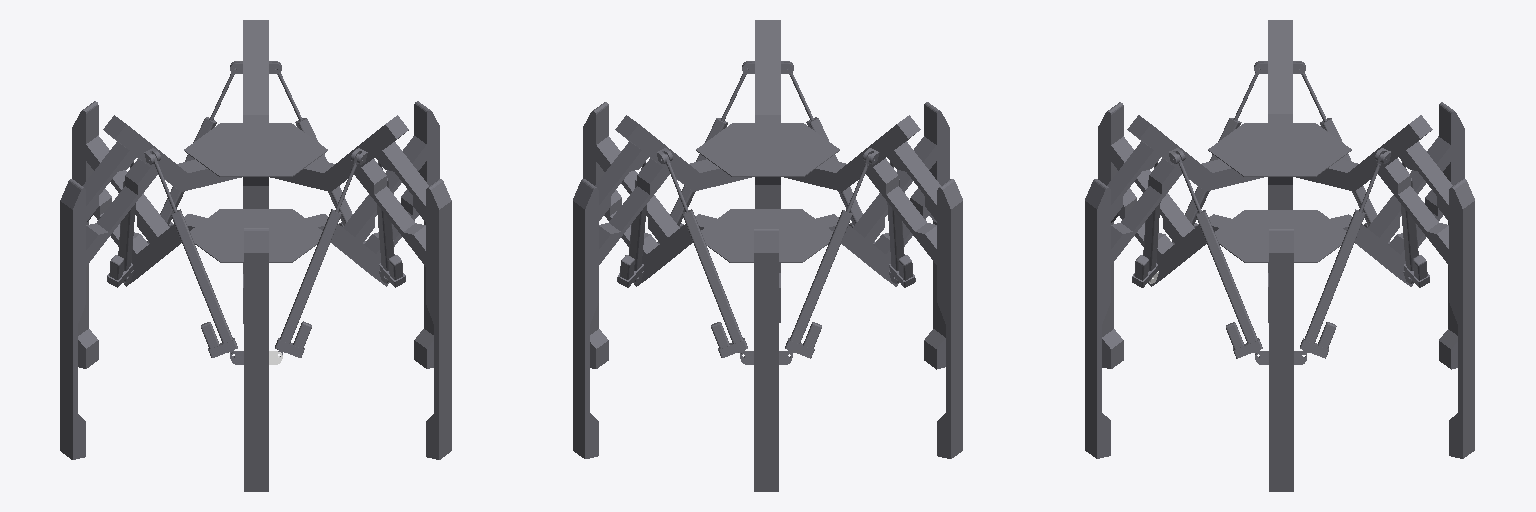
--- What the picture shows (computed from the rendered views, not written in the file) ---
3 views of the same robot in one strip: view 1: azimuth 30°, elevation 25°; view 2: azimuth 150°, elevation 25°; view 3: azimuth 270°, elevation 25° (orthographic).
Robot: Stewart — 26 links, 25 joints (12 revolute, 7 continuous, 6 prismatic); root link Lower; default pose: all joints at 0.
Links seen in each view (by area): view 1: Upper, Lower, V6, V5, V4, V1, V2, V3; view 2: Upper, Lower, V3, V4, V5, V2, V1, V6; view 3: Upper, Lower, V1, V2, V6, V3, V4, V5.
Boxes of the visible links, x1,y1,x2,y2 form: Upper: [60, 20, 451, 459]; Lower: [72, 101, 439, 491]; V6: [275, 209, 341, 357]; V5: [171, 209, 237, 357]; V4: [107, 179, 135, 287]; V1: [377, 178, 405, 287]; V2: [295, 118, 365, 243]; V3: [147, 117, 216, 243]; Upper: [573, 20, 962, 458]; Lower: [583, 102, 949, 491]; V3: [682, 209, 747, 357]; V4: [785, 210, 852, 358]; V5: [887, 179, 915, 287]; V2: [617, 178, 646, 287]; V1: [657, 118, 727, 244]; V6: [806, 117, 875, 244]; Upper: [1085, 20, 1474, 458]; Lower: [1098, 102, 1464, 491]; V1: [1195, 210, 1262, 358]; V2: [1300, 209, 1365, 358]; V6: [1132, 179, 1160, 287]; V3: [1401, 178, 1429, 287]; V4: [1320, 118, 1389, 244]; V5: [1172, 118, 1241, 244].
Size in the robot's own frame: 1.36 by 1.25 by 1.14 metres.
26 mesh visuals loaded from 26 distinct referenced files (26 binary STL).

robot.urdf — Stewart:
<?xml version="1.0" encoding="utf-8"?>
<!-- This URDF was automatically created by SolidWorks to URDF Exporter! Originally created by Stephen Brawner ([email redacted]) 
     Commit Version: 1.6.0-4-g7f85cfe  Build Version: 1.6.7995.38578
     For more information, please see http://wiki.ros.org/sw_urdf_exporter -->
<robot
  name="Stewart">
  <link
    name="Lower">
    <inertial>
      <origin
        xyz="-0.010389 -0.15074 -0.22968"
        rpy="0 0 0" />
      <mass
        value="19.55" />
      <inertia
        ixx="2.9384"
        ixy="2.7079E-11"
        ixz="6.3929E-11"
        iyy="2.9384"
        iyz="9.1516E-11"
        izz="4.5968" />
    </inertial>
    <visual>
      <origin
        xyz="0 0 0"
        rpy="0 0 0" />
      <geometry>
        <mesh
          filename="package://Stewart/meshes/Lower.STL" />
      </geometry>
      <material
        name="">
        <color
          rgba="0.49412 0.49412 0.52549 1" />
      </material>
    </visual>
    <collision>
      <origin
        xyz="0 0 0"
        rpy="0 0 0" />
      <geometry>
        <mesh
          filename="package://Stewart/meshes/Lower.STL" />
      </geometry>
    </collision>
  </link>
  <link
    name="C1_1">
    <inertial>
      <origin
        xyz="0.13316 -0.072357 -0.012797"
        rpy="0 0 0" />
      <mass
        value="0.039475" />
      <inertia
        ixx="1.0228E-05"
        ixy="-2.0586E-07"
        ixz="-7.6717E-11"
        iyy="1.0698E-05"
        iyz="-1.6758E-10"
        izz="1.064E-05" />
    </inertial>
    <visual>
      <origin
        xyz="0 0 0"
        rpy="0 0 0" />
      <geometry>
        <mesh
          filename="package://Stewart/meshes/C1_1.STL" />
      </geometry>
      <material
        name="">
        <color
          rgba="0.49412 0.49412 0.52549 1" />
      </material>
    </visual>
    <collision>
      <origin
        xyz="0 0 0"
        rpy="0 0 0" />
      <geometry>
        <mesh
          filename="package://Stewart/meshes/C1_1.STL" />
      </geometry>
    </collision>
  </link>
  <joint
    name="J1_L"
    type="continuous">
    <origin
      xyz="0.40602 -0.075625 -0.31782"
      rpy="1.8677 0 -1.5708" />
    <parent
      link="Lower" />
    <child
      link="C1_1" />
    <axis
      xyz="-1 0 0" />
    <limit
      effort="1000"
      velocity="1000" />
  </joint>
  <link
    name="V1">
    <inertial>
      <origin
        xyz="0.16591 0.14292 0.011473"
        rpy="0 0 0" />
      <mass
        value="0.66993" />
      <inertia
        ixx="0.00041123"
        ixy="0.00096455"
        ixz="1.2062E-15"
        iyy="0.014836"
        iyz="8.0014E-17"
        izz="0.015086" />
    </inertial>
    <visual>
      <origin
        xyz="0 0 0"
        rpy="0 0 0" />
      <geometry>
        <mesh
          filename="package://Stewart/meshes/V1.STL" />
      </geometry>
      <material
        name="">
        <color
          rgba="0.49412 0.49412 0.52549 1" />
      </material>
    </visual>
    <collision>
      <origin
        xyz="0 0 0"
        rpy="0 0 0" />
      <geometry>
        <mesh
          filename="package://Stewart/meshes/V1.STL" />
      </geometry>
    </collision>
  </link>
  <joint
    name="J1_1"
    type="revolute">
    <origin
      xyz="0.038976 0.019698 -0.0013241"
      rpy="3.1416 0 1.1891" />
    <parent
      link="C1_1" />
    <child
      link="V1" />
    <axis
      xyz="0 0 -1" />
    <limit
      lower="-1.57"
      upper="1.57"
      effort="1000"
      velocity="1000" />
  </joint>
  <link
    name="P1">
    <inertial>
      <origin
        xyz="-0.09737 -0.097635 0.13488"
        rpy="0 0 0" />
      <mass
        value="0.054892" />
      <inertia
        ixx="1.0485E-06"
        ixy="-1.5892E-10"
        ixz="-2.5525E-09"
        iyy="0.0010739"
        iyz="-1.4724E-12"
        izz="0.0010739" />
    </inertial>
    <visual>
      <origin
        xyz="0 0 0"
        rpy="0 0 0" />
      <geometry>
        <mesh
          filename="package://Stewart/meshes/P1.STL" />
      </geometry>
      <material
        name="">
        <color
          rgba="0.49412 0.49412 0.52549 1" />
      </material>
    </visual>
    <collision>
      <origin
        xyz="0 0 0"
        rpy="0 0 0" />
      <geometry>
        <mesh
          filename="package://Stewart/meshes/P1.STL" />
      </geometry>
    </collision>
  </link>
  <joint
    name="Cy1"
    type="prismatic">
    <origin
      xyz="0.5203 -0.011845 0.094844"
      rpy="-2.7218 0 0" />
    <parent
      link="V1" />
    <child
      link="P1" />
    <axis
      xyz="1 0 0" />
    <limit
      lower="-0.25"
      upper="0.25"
      effort="1000"
      velocity="1000" />
  </joint>
  <link
    name="C2_1">
    <inertial>
      <origin
        xyz="-0.09765 0.16784 -0.084374"
        rpy="0 0 0" />
      <mass
        value="0.034924" />
      <inertia
        ixx="8.0687E-06"
        ixy="7.7883E-19"
        ixz="-5.7773E-21"
        iyy="9.4811E-06"
        iyz="-1.7152E-20"
        izz="8.4038E-06" />
    </inertial>
    <visual>
      <origin
        xyz="0 0 0"
        rpy="0 0 0" />
      <geometry>
        <mesh
          filename="package://Stewart/meshes/C2_1.STL" />
      </geometry>
      <material
        name="">
        <color
          rgba="0.49412 0.49412 0.52549 1" />
      </material>
    </visual>
    <collision>
      <origin
        xyz="0 0 0"
        rpy="0 0 0" />
      <geometry>
        <mesh
          filename="package://Stewart/meshes/C2_1.STL" />
      </geometry>
    </collision>
  </link>
  <joint
    name="J2_1"
    type="revolute">
    <origin
      xyz="0.24741 -0.013261 -0.01842"
      rpy="1.5708 1.1358 3.1416" />
    <parent
      link="P1" />
    <child
      link="C2_1" />
    <axis
      xyz="0 0 -1" />
    <limit
      lower="-1.57"
      upper="1.57"
      effort="1000"
      velocity="1000" />
  </joint>
  <link
    name="Upper">
    <inertial>
      <origin
        xyz="-0.081611 -0.10844 -0.35699"
        rpy="0 0 0" />
      <mass
        value="21.508" />
      <inertia
        ixx="4.6524"
        ixy="-0.00019502"
        ixz="-0.00014635"
        iyy="4.6523"
        iyz="-0.00019478"
        izz="5.9442" />
    </inertial>
    <visual>
      <origin
        xyz="0 0 0"
        rpy="0 0 0" />
      <geometry>
        <mesh
          filename="package://Stewart/meshes/Upper.STL" />
      </geometry>
      <material
        name="">
        <color
          rgba="0.49412 0.49412 0.52549 1" />
      </material>
    </visual>
    <collision>
      <origin
        xyz="0 0 0"
        rpy="0 0 0" />
      <geometry>
        <mesh
          filename="package://Stewart/meshes/Upper.STL" />
      </geometry>
    </collision>
  </link>
  <joint
    name="J1_U"
    type="continuous">
    <origin
      xyz="-0.031108 0.15944 0.39527"
      rpy="1.3323 0.51126 -0.11838" />
    <parent
      link="C2_1" />
    <child
      link="Upper" />
    <axis
      xyz="-0.86603 -0.5 0" />
    <limit
      effort="1000"
      velocity="1000" />
  </joint>
  <link
    name="C1_2">
    <inertial>
      <origin
        xyz="-0.096319 -0.07985 0.0048174"
        rpy="0 0 0" />
      <mass
        value="0.039475" />
      <inertia
        ixx="1.0228E-05"
        ixy="-2.0589E-07"
        ixz="-7.0825E-11"
        iyy="1.0698E-05"
        iyz="-1.6668E-10"
        izz="1.064E-05" />
    </inertial>
    <visual>
      <origin
        xyz="0 0 0"
        rpy="0 0 0" />
      <geometry>
        <mesh
          filename="package://Stewart/meshes/C1_2.STL" />
      </geometry>
      <material
        name="">
        <color
          rgba="0.49412 0.49412 0.52549 1" />
      </material>
    </visual>
    <collision>
      <origin
        xyz="0 0 0"
        rpy="0 0 0" />
      <geometry>
        <mesh
          filename="package://Stewart/meshes/C1_2.STL" />
      </geometry>
    </collision>
  </link>
  <joint
    name="J2_L"
    type="continuous">
    <origin
      xyz="0.41146 0.0036222 -0.30832"
      rpy="1.2738 0 1.5708" />
    <parent
      link="Lower" />
    <child
      link="C1_2" />
    <axis
      xyz="1 0 0" />
    <limit
      effort="1000"
      velocity="1000" />
  </joint>
  <link
    name="V2">
    <inertial>
      <origin
        xyz="0.069169 -0.063387 0.0025012"
        rpy="0 0 0" />
      <mass
        value="0.66993" />
      <inertia
        ixx="0.00041123"
        ixy="0.00096455"
        ixz="1.9191E-16"
        iyy="0.014836"
        iyz="2.0275E-17"
        izz="0.015086" />
    </inertial>
    <visual>
      <origin
        xyz="0 0 0"
        rpy="0 0 0" />
      <geometry>
        <mesh
          filename="package://Stewart/meshes/V2.STL" />
      </geometry>
      <material
        name="">
        <color
          rgba="0.49412 0.49412 0.52549 1" />
      </material>
    </visual>
    <collision>
      <origin
        xyz="0 0 0"
        rpy="0 0 0" />
      <geometry>
        <mesh
          filename="package://Stewart/meshes/V2.STL" />
      </geometry>
    </collision>
  </link>
  <joint
    name="J1_2"
    type="revolute">
    <origin
      xyz="0.036023 0.026319 0.0073184"
      rpy="-3.1416 0 1.1991" />
    <parent
      link="C1_2" />
    <child
      link="V2" />
    <axis
      xyz="0 0 -1" />
    <limit
      lower="-1.57"
      upper="1.57"
      effort="1000"
      velocity="1000" />
  </joint>
  <link
    name="P2">
    <inertial>
      <origin
        xyz="-0.23137 0.068491 -0.081051"
        rpy="0 0 0" />
      <mass
        value="0.054892" />
      <inertia
        ixx="1.0485E-06"
        ixy="1.1273E-10"
        ixz="2.5778E-09"
        iyy="0.0010739"
        iyz="-1.1562E-12"
        izz="0.0010739" />
    </inertial>
    <visual>
      <origin
        xyz="0 0 0"
        rpy="0 0 0" />
      <geometry>
        <mesh
          filename="package://Stewart/meshes/P2.STL" />
      </geometry>
      <material
        name="">
        <color
          rgba="0.49412 0.49412 0.52549 1" />
      </material>
    </visual>
    <collision>
      <origin
        xyz="0 0 0"
        rpy="0 0 0" />
      <geometry>
        <mesh
          filename="package://Stewart/meshes/P2.STL" />
      </geometry>
    </collision>
  </link>
  <joint
    name="Cy2"
    type="prismatic">
    <origin
      xyz="0.55483 -0.04494 -0.099551"
      rpy="2.7176 0 0" />
    <parent
      link="V2" />
    <child
      link="P2" />
    <axis
      xyz="1 0 0" />
    <limit
      lower="-0.25"
      upper="0.25"
      effort="1000"
      velocity="1000" />
  </joint>
  <link
    name="C2_2">
    <inertial>
      <origin
        xyz="0.0019344 0.27073 -0.06849"
        rpy="0 0 0" />
      <mass
        value="0.034924" />
      <inertia
        ixx="8.0687E-06"
        ixy="8.2009E-19"
        ixz="-5.3355E-21"
        iyy="9.4811E-06"
        iyz="3.3881E-21"
        izz="8.4038E-06" />
    </inertial>
    <visual>
      <origin
        xyz="0 0 0"
        rpy="0 0 0" />
      <geometry>
        <mesh
          filename="package://Stewart/meshes/C2_2.STL" />
      </geometry>
      <material
        name="">
        <color
          rgba="0.49412 0.49412 0.52549 1" />
      </material>
    </visual>
    <collision>
      <origin
        xyz="0 0 0"
        rpy="0 0 0" />
      <geometry>
        <mesh
          filename="package://Stewart/meshes/C2_2.STL" />
      </geometry>
    </collision>
  </link>
  <joint
    name="J2_2"
    type="revolute">
    <origin
      xyz="0.24912 0 0.024272"
      rpy="-1.5708 -1.1399 -3.1416" />
    <parent
      link="P2" />
    <child
      link="C2_2" />
    <axis
      xyz="0 0 -1" />
    <limit
      lower="-1.57"
      upper="1.57"
      effort="1000"
      velocity="1000" />
  </joint>
  <link
    name="C1_3">
    <inertial>
      <origin
        xyz="-0.060265 -0.20142 0.18103"
        rpy="0 0 0" />
      <mass
        value="0.039475" />
      <inertia
        ixx="1.0228E-05"
        ixy="-2.0589E-07"
        ixz="-7.1776E-11"
        iyy="1.0698E-05"
        iyz="-1.6867E-10"
        izz="1.064E-05" />
    </inertial>
    <visual>
      <origin
        xyz="0 0 0"
        rpy="0 0 0" />
      <geometry>
        <mesh
          filename="package://Stewart/meshes/C1_3.STL" />
      </geometry>
      <material
        name="">
        <color
          rgba="0.49412 0.49412 0.52549 1" />
      </material>
    </visual>
    <collision>
      <origin
        xyz="0 0 0"
        rpy="0 0 0" />
      <geometry>
        <mesh
          filename="package://Stewart/meshes/C1_3.STL" />
      </geometry>
    </collision>
  </link>
  <joint
    name="J3_L"
    type="continuous">
    <origin
      xyz="-0.19038 0.39762 -0.13811"
      rpy="1.8641 0 0.5236" />
    <parent
      link="Lower" />
    <child
      link="C1_3" />
    <axis
      xyz="-1 0 0" />
    <limit
      effort="1000"
      velocity="1000" />
  </joint>
  <link
    name="V3">
    <inertial>
      <origin
        xyz="-0.026229 0.008451 -0.1767"
        rpy="0 0 0" />
      <mass
        value="0.66993" />
      <inertia
        ixx="0.00041123"
        ixy="0.00096455"
        ixz="-1.9617E-16"
        iyy="0.014836"
        iyz="-2.2985E-17"
        izz="0.015086" />
    </inertial>
    <visual>
      <origin
        xyz="0 0 0"
        rpy="0 0 0" />
      <geometry>
        <mesh
          filename="package://Stewart/meshes/V3.STL" />
      </geometry>
      <material
        name="">
        <color
          rgba="0.49412 0.49412 0.52549 1" />
      </material>
    </visual>
    <collision>
      <origin
        xyz="0 0 0"
        rpy="0 0 0" />
      <geometry>
        <mesh
          filename="package://Stewart/meshes/V3.STL" />
      </geometry>
    </collision>
  </link>
  <joint
    name="J1_3"
    type="revolute">
    <origin
      xyz="0.039457 0.019856 0.0043363"
      rpy="-3.1416 0 1.2007" />
    <parent
      link="C1_3" />
    <child
      link="V3" />
    <axis
      xyz="0 0 -1" />
    <limit
      lower="-1.57"
      upper="1.57"
      effort="1000"
      velocity="1000" />
  </joint>
  <link
    name="P3">
    <inertial>
      <origin
        xyz="-0.24186 0.070679 0.1186"
        rpy="0 0 0" />
      <mass
        value="0.054892" />
      <inertia
        ixx="1.0485E-06"
        ixy="-1.1739E-10"
        ixz="-2.5902E-09"
        iyy="0.0010739"
        iyz="-1.3041E-12"
        izz="0.0010739" />
    </inertial>
    <visual>
      <origin
        xyz="0 0 0"
        rpy="0 0 0" />
      <geometry>
        <mesh
          filename="package://Stewart/meshes/P3.STL" />
      </geometry>
      <material
        name="">
        <color
          rgba="0.49412 0.49412 0.52549 1" />
      </material>
    </visual>
    <collision>
      <origin
        xyz="0 0 0"
        rpy="0 0 0" />
      <geometry>
        <mesh
          filename="package://Stewart/meshes/P3.STL" />
      </geometry>
    </collision>
  </link>
  <joint
    name="Cy3"
    type="prismatic">
    <origin
      xyz="0.46873 0.01326 -0.0395"
      rpy="-2.7162 0 0" />
    <parent
      link="V3" />
    <child
      link="P3" />
    <axis
      xyz="1 0 0" />
    <limit
      lower="-0.25"
      upper="0.25"
      effort="1000"
      velocity="1000" />
  </joint>
  <link
    name="C2_3">
    <inertial>
      <origin
        xyz="0.03486 0.27073 0.068496"
        rpy="0 0 0" />
      <mass
        value="0.034924" />
      <inertia
        ixx="8.0687E-06"
        ixy="8.2091E-19"
        ixz="1.7745E-21"
        iyy="9.4811E-06"
        iyz="-8.4703E-22"
        izz="8.4038E-06" />
    </inertial>
    <visual>
      <origin
        xyz="0 0 0"
        rpy="0 0 0" />
      <geometry>
        <mesh
          filename="package://Stewart/meshes/C2_3.STL" />
      </geometry>
      <material
        name="">
        <color
          rgba="0.49412 0.49412 0.52549 1" />
      </material>
    </visual>
    <collision>
      <origin
        xyz="0 0 0"
        rpy="0 0 0" />
      <geometry>
        <mesh
          filename="package://Stewart/meshes/C2_3.STL" />
      </geometry>
    </collision>
  </link>
  <joint
    name="J2_3"
    type="revolute">
    <origin
      xyz="0.25266 0.0021823 0.044181"
      rpy="1.5708 1.1437 3.1416" />
    <parent
      link="P3" />
    <child
      link="C2_3" />
    <axis
      xyz="0 0 -1" />
    <limit
      lower="-1.57"
      upper="1.57"
      effort="1000"
      velocity="1000" />
  </joint>
  <link
    name="C1_4">
    <inertial>
      <origin
        xyz="0.096929 -0.20892 -0.18704"
        rpy="0 0 0" />
      <mass
        value="0.039475" />
      <inertia
        ixx="1.0228E-05"
        ixy="-2.059E-07"
        ixz="-7.3253E-11"
        iyy="1.0698E-05"
        iyz="-1.5704E-10"
        izz="1.064E-05" />
    </inertial>
    <visual>
      <origin
        xyz="0 0 0"
        rpy="0 0 0" />
      <geometry>
        <mesh
          filename="package://Stewart/meshes/C1_4.STL" />
      </geometry>
      <material
        name="">
        <color
          rgba="0.49412 0.49412 0.52549 1" />
      </material>
    </visual>
    <collision>
      <origin
        xyz="0 0 0"
        rpy="0 0 0" />
      <geometry>
        <mesh
          filename="package://Stewart/meshes/C1_4.STL" />
      </geometry>
    </collision>
  </link>
  <joint
    name="J4_L"
    type="continuous">
    <origin
      xyz="-0.26095 0.36102 -0.12919"
      rpy="1.2775 0 -2.618" />
    <parent
      link="Lower" />
    <child
      link="C1_4" />
    <axis
      xyz="1 0 0" />
    <limit
      effort="1000"
      velocity="1000" />
  </joint>
  <link
    name="V4">
    <inertial>
      <origin
        xyz="0.020742 0.16443 0.1857"
        rpy="0 0 0" />
      <mass
        value="0.66993" />
      <inertia
        ixx="0.00041123"
        ixy="0.00096455"
        ixz="-1.2077E-15"
        iyy="0.014836"
        iyz="-7.9906E-17"
        izz="0.015086" />
    </inertial>
    <visual>
      <origin
        xyz="0 0 0"
        rpy="0 0 0" />
      <geometry>
        <mesh
          filename="package://Stewart/meshes/V4.STL" />
      </geometry>
      <material
        name="">
        <color
          rgba="0.49412 0.49412 0.52549 1" />
      </material>
    </visual>
    <collision>
      <origin
        xyz="0 0 0"
        rpy="0 0 0" />
      <geometry>
        <mesh
          filename="package://Stewart/meshes/V4.STL" />
      </geometry>
    </collision>
  </link>
  <joint
    name="J1_4"
    type="revolute">
    <origin
      xyz="0.037382 0.026037 -0.0013417"
      rpy="3.1416 0 1.1868" />
    <parent
      link="C1_4" />
    <child
      link="V4" />
    <axis
      xyz="0 0 -1" />
    <limit
      lower="-1.57"
      upper="1.57"
      effort="1000"
      velocity="1000" />
  </joint>
  <link
    name="P4">
    <inertial>
      <origin
        xyz="-0.097359 -0.09438 -0.18771"
        rpy="0 0 0" />
      <mass
        value="0.054892" />
      <inertia
        ixx="1.0485E-06"
        ixy="6.5629E-11"
        ixz="2.5674E-09"
        iyy="0.0010739"
        iyz="-2.2736E-13"
        izz="0.0010739" />
    </inertial>
    <visual>
      <origin
        xyz="0 0 0"
        rpy="0 0 0" />
      <geometry>
        <mesh
          filename="package://Stewart/meshes/P4.STL" />
      </geometry>
      <material
        name="">
        <color
          rgba="0.49412 0.49412 0.52549 1" />
      </material>
    </visual>
    <collision>
      <origin
        xyz="0 0 0"
        rpy="0 0 0" />
      <geometry>
        <mesh
          filename="package://Stewart/meshes/P4.STL" />
      </geometry>
    </collision>
  </link>
  <joint
    name="Cy4"
    type="prismatic">
    <origin
      xyz="0.37499 -0.0088605 0.052719"
      rpy="2.722 0 0" />
    <parent
      link="V4" />
    <child
      link="P4" />
    <axis
      xyz="1 0 0" />
    <limit
      lower="-0.25"
      upper="0.25"
      effort="1000"
      velocity="1000" />
  </joint>
  <link
    name="C2_4">
    <inertial>
      <origin
        xyz="-0.081187 0.16153 0.1129"
        rpy="0 0 0" />
      <mass
        value="0.034924" />
      <inertia
        ixx="8.0687E-06"
        ixy="7.5131E-19"
        ixz="-2.1209E-21"
        iyy="9.4811E-06"
        iyz="1.44E-20"
        izz="8.4038E-06" />
    </inertial>
    <visual>
      <origin
        xyz="0 0 0"
        rpy="0 0 0" />
      <geometry>
        <mesh
          filename="package://Stewart/meshes/C2_4.STL" />
      </geometry>
      <material
        name="">
        <color
          rgba="0.49412 0.49412 0.52549 1" />
      </material>
    </visual>
    <collision>
      <origin
        xyz="0 0 0"
        rpy="0 0 0" />
      <geometry>
        <mesh
          filename="package://Stewart/meshes/C2_4.STL" />
      </geometry>
    </collision>
  </link>
  <joint
    name="J2_4"
    type="revolute">
    <origin
      xyz="0.24893 0.01852 -0.052245"
      rpy="-1.5708 -1.138 3.1416" />
    <parent
      link="P4" />
    <child
      link="C2_4" />
    <axis
      xyz="0 0 -1" />
    <limit
      lower="-1.57"
      upper="1.57"
      effort="1000"
      velocity="1000" />
  </joint>
  <link
    name="C1_5">
    <inertial>
      <origin
        xyz="-0.092218 -0.19001 -0.05757"
        rpy="0 0 0" />
      <mass
        value="0.039475" />
      <inertia
        ixx="1.0228E-05"
        ixy="-2.059E-07"
        ixz="-1.0659E-10"
        iyy="1.0698E-05"
        iyz="-1.725E-10"
        izz="1.064E-05" />
    </inertial>
    <visual>
      <origin
        xyz="0 0 0"
        rpy="0 0 0" />
      <geometry>
        <mesh
          filename="package://Stewart/meshes/C1_5.STL" />
      </geometry>
      <material
        name="">
        <color
          rgba="0.49412 0.49412 0.52549 1" />
      </material>
    </visual>
    <collision>
      <origin
        xyz="0 0 0"
        rpy="0 0 0" />
      <geometry>
        <mesh
          filename="package://Stewart/meshes/C1_5.STL" />
      </geometry>
    </collision>
  </link>
  <joint
    name="J5_L"
    type="continuous">
    <origin
      xyz="-0.3112 -0.37123 -0.21697"
      rpy="1.8546 0 2.618" />
    <parent
      link="Lower" />
    <child
      link="C1_5" />
    <axis
      xyz="-1 0 0" />
    <limit
      effort="1000"
      velocity="1000" />
  </joint>
  <link
    name="V5">
    <inertial>
      <origin
        xyz="-0.035895 -0.012891 0.057796"
        rpy="0 0 0" />
      <mass
        value="0.66993" />
      <inertia
        ixx="0.00041123"
        ixy="0.00096455"
        ixz="1.8921E-16"
        iyy="0.014836"
        iyz="1.9082E-17"
        izz="0.015086" />
    </inertial>
    <visual>
      <origin
        xyz="0 0 0"
        rpy="0 0 0" />
      <geometry>
        <mesh
          filename="package://Stewart/meshes/V5.STL" />
      </geometry>
      <material
        name="">
        <color
          rgba="0.49412 0.49412 0.52549 1" />
      </material>
    </visual>
    <collision>
      <origin
        xyz="0 0 0"
        rpy="0 0 0" />
      <geometry>
        <mesh
          filename="package://Stewart/meshes/V5.STL" />
      </geometry>
    </collision>
  </link>
  <joint
    name="J1_5"
    type="revolute">
    <origin
      xyz="0.033005 0.031475 0.00022614"
      rpy="-3.1416 0 1.1908" />
    <parent
      link="C1_5" />
    <child
      link="V5" />
    <axis
      xyz="0 0 -1" />
    <limit
      lower="-1.57"
      upper="1.57"
      effort="1000"
      velocity="1000" />
  </joint>
  <link
    name="P5">
    <inertial>
      <origin
        xyz="-0.1702 -0.069482 -0.041968"
        rpy="0 0 0" />
      <mass
        value="0.054892" />
      <inertia
        ixx="1.0485E-06"
        ixy="-1.1798E-10"
        ixz="-2.5558E-09"
        iyy="0.0010739"
        iyz="-1.1964E-12"
        izz="0.0010739" />
    </inertial>
    <visual>
      <origin
        xyz="0 0 0"
        rpy="0 0 0" />
      <geometry>
        <mesh
          filename="package://Stewart/meshes/P5.STL" />
      </geometry>
      <material
        name="">
        <color
          rgba="0.49412 0.49412 0.52549 1" />
      </material>
    </visual>
    <collision>
      <origin
        xyz="0 0 0"
        rpy="0 0 0" />
      <geometry>
        <mesh
          filename="package://Stewart/meshes/P5.STL" />
      </geometry>
    </collision>
  </link>
  <joint
    name="Cy5"
    type="prismatic">
    <origin
      xyz="0.38811 -0.069642 -0.0090013"
      rpy="-2.7185 0 0" />
    <parent
      link="V5" />
    <child
      link="P5" />
    <axis
      xyz="1 0 0" />
    <limit
      lower="-0.25"
      upper="0.25"
      effort="1000"
      velocity="1000" />
  </joint>
  <link
    name="C2_5">
    <inertial>
      <origin
        xyz="0.11841 0.15336 -0.11139"
        rpy="0 0 0" />
      <mass
        value="0.034924" />
      <inertia
        ixx="8.0687E-06"
        ixy="7.8264E-19"
        ixz="9.6403E-21"
        iyy="9.4811E-06"
        iyz="2.0011E-20"
        izz="8.4038E-06" />
    </inertial>
    <visual>
      <origin
        xyz="0 0 0"
        rpy="0 0 0" />
      <geometry>
        <mesh
          filename="package://Stewart/meshes/C2_5.STL" />
      </geometry>
      <material
        name="">
        <color
          rgba="0.49412 0.49412 0.52549 1" />
      </material>
    </visual>
    <collision>
      <origin
        xyz="0 0 0"
        rpy="0 0 0" />
      <geometry>
        <mesh
          filename="package://Stewart/meshes/C2_5.STL" />
      </geometry>
    </collision>
  </link>
  <joint
    name="J2_5"
    type="revolute">
    <origin
      xyz="0.25191 0.041912 0.0090469"
      rpy="1.5708 1.1477 -3.1416" />
    <parent
      link="P5" />
    <child
      link="C2_5" />
    <axis
      xyz="0 0 -1" />
    <limit
      lower="-1.57"
      upper="1.57"
      effort="1000"
      velocity="1000" />
  </joint>
  <link
    name="C1_6">
    <inertial>
      <origin
        xyz="0 0 0"
        rpy="0 0 0" />
      <mass
        value="0" />
      <inertia
        ixx="0"
        ixy="0"
        ixz="0"
        iyy="0"
        iyz="0"
        izz="0" />
    </inertial>
    <visual>
      <origin
        xyz="0 0 0"
        rpy="0 0 0" />
      <geometry>
        <mesh
          filename="package://Stewart/meshes/C1_6.STL" />
      </geometry>
      <material
        name="">
        <color
          rgba="1 1 1 1" />
      </material>
    </visual>
    <collision>
      <origin
        xyz="0 0 0"
        rpy="0 0 0" />
      <geometry>
        <mesh
          filename="package://Stewart/meshes/C1_6.STL" />
      </geometry>
    </collision>
  </link>
  <joint
    name="J6_L"
    type="continuous">
    <origin
      xyz="-0.24606 -0.41387 -0.23539"
      rpy="1.287 0 -0.5236" />
    <parent
      link="Lower" />
    <child
      link="C1_6" />
    <axis
      xyz="1 0 0" />
    <limit
      effort="1000"
      velocity="1000" />
  </joint>
  <link
    name="V6">
    <inertial>
      <origin
        xyz="0.076471 0.17206 -0.059333"
        rpy="0 0 0" />
      <mass
        value="0.66993" />
      <inertia
        ixx="0.00041123"
        ixy="0.00096455"
        ixz="-1.9768E-16"
        iyy="0.014836"
        iyz="-1.9082E-17"
        izz="0.015086" />
    </inertial>
    <visual>
      <origin
        xyz="0 0 0"
        rpy="0 0 0" />
      <geometry>
        <mesh
          filename="package://Stewart/meshes/V6.STL" />
      </geometry>
      <material
        name="">
        <color
          rgba="0.49412 0.49412 0.52549 1" />
      </material>
    </visual>
    <collision>
      <origin
        xyz="0 0 0"
        rpy="0 0 0" />
      <geometry>
        <mesh
          filename="package://Stewart/meshes/V6.STL" />
      </geometry>
    </collision>
  </link>
  <joint
    name="J1_6"
    type="revolute">
    <origin
      xyz="0.041675 0.014229 -0.00079182"
      rpy="3.1416 0 1.1947" />
    <parent
      link="C1_6" />
    <child
      link="V6" />
    <axis
      xyz="0 0 -1" />
    <limit
      lower="-1.57"
      upper="1.57"
      effort="1000"
      velocity="1000" />
  </joint>
  <link
    name="P6">
    <inertial>
      <origin
        xyz="-0.18107 -0.11101 0.024617"
        rpy="0 0 0" />
      <mass
        value="0.054892" />
      <inertia
        ixx="1.0485E-06"
        ixy="1.0433E-10"
        ixz="2.5561E-09"
        iyy="0.0010739"
        iyz="-8.9579E-13"
        izz="0.0010739" />
    </inertial>
    <visual>
      <origin
        xyz="0 0 0"
        rpy="0 0 0" />
      <geometry>
        <mesh
          filename="package://Stewart/meshes/P6.STL" />
      </geometry>
      <material
        name="">
        <color
          rgba="0.49412 0.49412 0.52549 1" />
      </material>
    </visual>
    <collision>
      <origin
        xyz="0 0 0"
        rpy="0 0 0" />
      <geometry>
        <mesh
          filename="package://Stewart/meshes/P6.STL" />
      </geometry>
    </collision>
  </link>
  <joint
    name="Cy6"
    type="prismatic">
    <origin
      xyz="0.51029 0.070425 0.0088417"
      rpy="2.7169 0 0" />
    <parent
      link="V6" />
    <child
      link="P6" />
    <axis
      xyz="1 0 0" />
    <limit
      lower="-0.25"
      upper="0.25"
      effort="1000"
      velocity="1000" />
  </joint>
  <link
    name="C2_6">
    <inertial>
      <origin
        xyz="0.13488 0.15967 0.082895"
        rpy="0 0 0" />
      <mass
        value="0.034924" />
      <inertia
        ixx="8.0687E-06"
        ixy="7.7468E-19"
        ixz="-5.2683E-21"
        iyy="9.4811E-06"
        iyz="-2.2129E-20"
        izz="8.4038E-06" />
    </inertial>
    <visual>
      <origin
        xyz="0 0 0"
        rpy="0 0 0" />
      <geometry>
        <mesh
          filename="package://Stewart/meshes/C2_6.STL" />
      </geometry>
      <material
        name="">
        <color
          rgba="0.49412 0.49412 0.52549 1" />
      </material>
    </visual>
    <collision>
      <origin
        xyz="0 0 0"
        rpy="0 0 0" />
      <geometry>
        <mesh
          filename="package://Stewart/meshes/C2_6.STL" />
      </geometry>
    </collision>
  </link>
  <joint
    name="J2_6"
    type="revolute">
    <origin
      xyz="0.25344 -0.028119 -0.039147"
      rpy="-1.5708 -1.1492 -3.1416" />
    <parent
      link="P6" />
    <child
      link="C2_6" />
    <axis
      xyz="0 0 -1" />
    <limit
      lower="-1.57"
      upper="1.57"
      effort="1000"
      velocity="1000" />
  </joint>
</robot>
